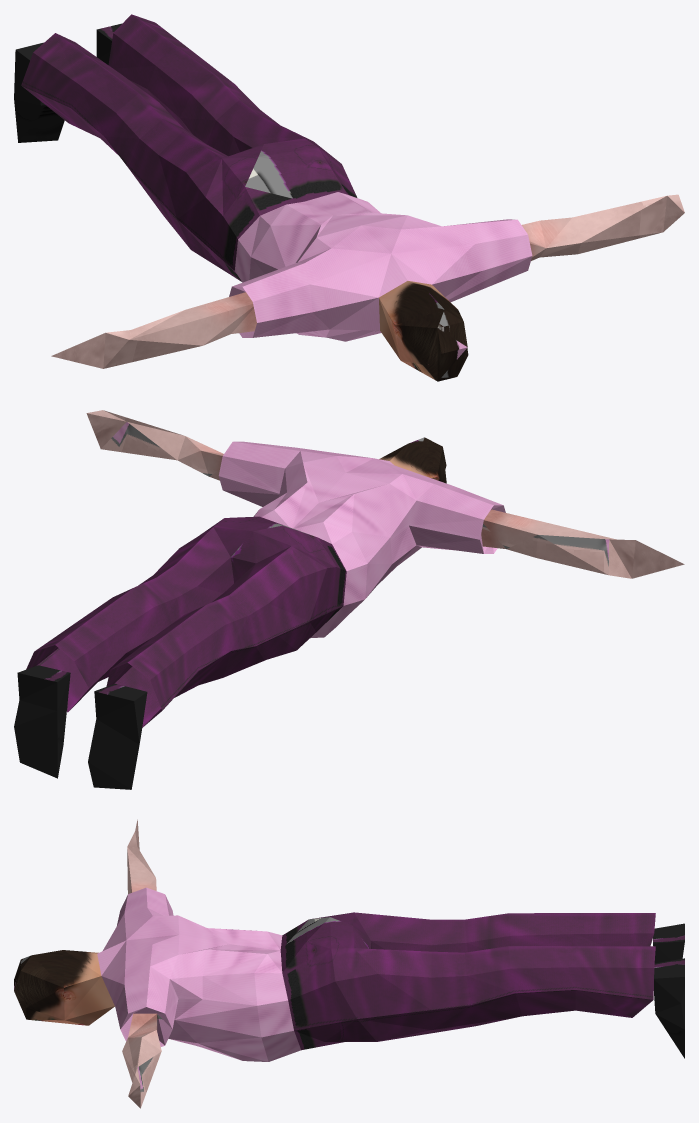
The model's file is tomdrinman2_3kladymanlow_wtf.obj.
3 renders of one model, top to bottom at view 1: azimuth 30°, elevation 25°; view 2: azimuth 150°, elevation 25°; view 3: azimuth 270°, elevation 25°, orthographic. The views are drawn at different scales.
Visible parts, largest first — view 1: group1; view 2: group1; view 3: group1.
Part boxes in pixels (<box>): group1: <box>14,14,684,381</box>; group1: <box>14,410,684,789</box>; group1: <box>14,819,684,1108</box>.
Bounding box in the file's own units: 618 × 136 × 642.
